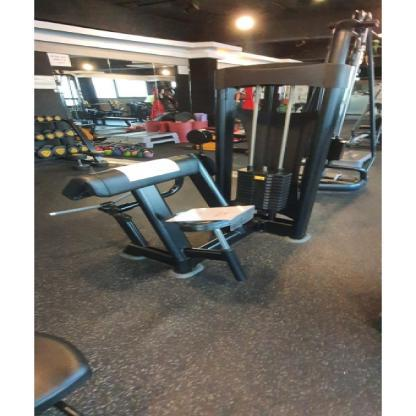arm curl machine: (65, 153, 328, 283)
